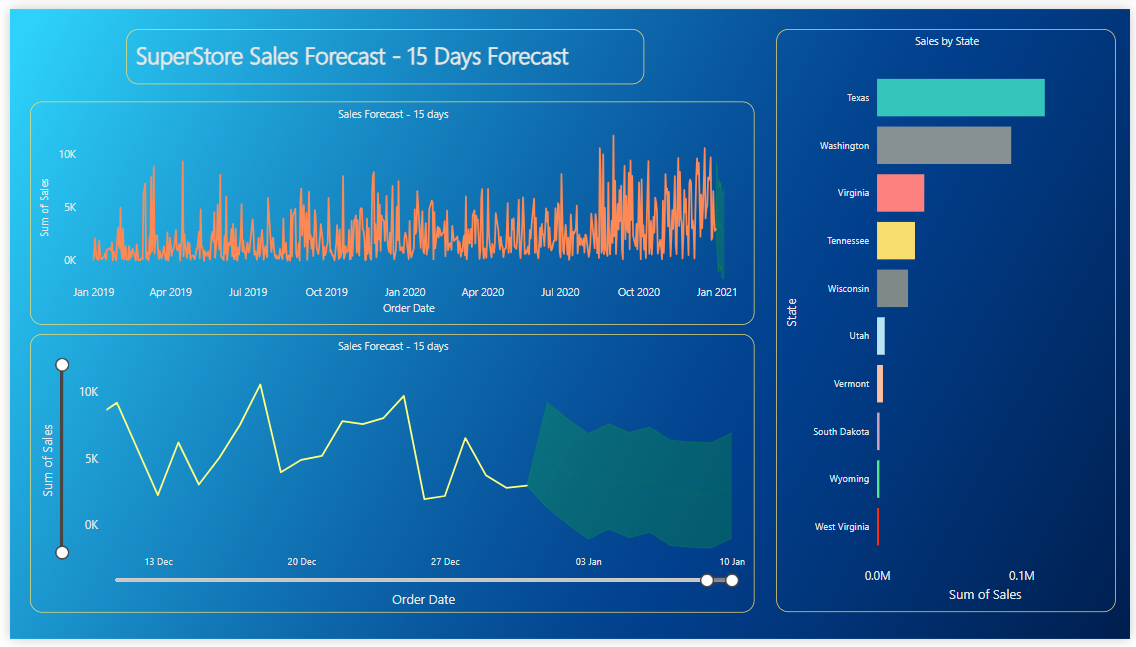

Layout of this report page (visuals, bound fields, positions):
{"tool":"powerbi","page":{"name":"Sales Forecast","canvas":[1280,720],"ordinal":1},"visuals":[{"type":"lineChart","title":"Sales Forecast - 15 days","fields":{"Y":["Sum(SuperStore dataset.Sales)"],"Category":["SuperStore dataset.Order Date"]},"box":[23.3,105,828.3,255],"z":0},{"type":"lineChart","title":"Sales Forecast - 15 days ","fields":{"Y":["Sum(SuperStore dataset.Sales)"],"Category":["SuperStore dataset.Order Date"]},"box":[23.3,371.7,828.3,318.3],"z":1000},{"type":"barChart","title":"Sales by State","fields":{"Category":["SuperStore dataset.State"],"Y":["Sum(SuperStore dataset.Sales)"]},"box":[875,23.3,388.3,666.7],"z":2000},{"type":"textbox","box":[133.3,23.3,591.7,63.3],"z":3000}]}

Visuals, with their boxes in screenshot pixels (x1, y1, x2, y2), scaled from the page's 1280x720 canvas onto the 1136x647 screenshot:
"Sales Forecast - 15 days" lineChart: (left=21, top=94, right=756, bottom=324)
"Sales Forecast - 15 days " lineChart: (left=21, top=334, right=756, bottom=620)
"Sales by State" barChart: (left=777, top=21, right=1121, bottom=620)
textbox: (left=118, top=21, right=643, bottom=78)
